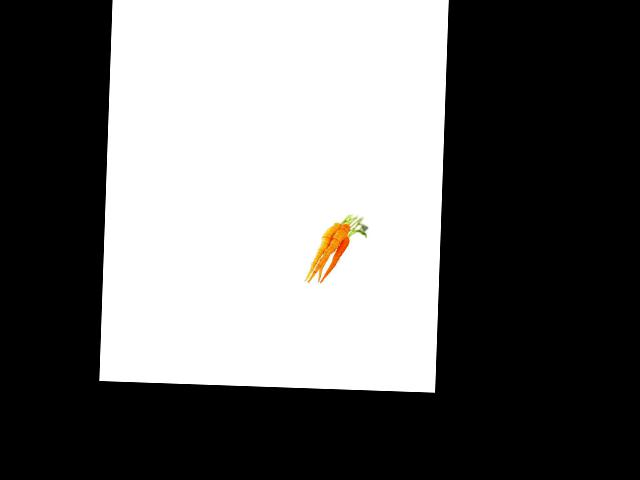carrot: (303, 218, 341, 283)
